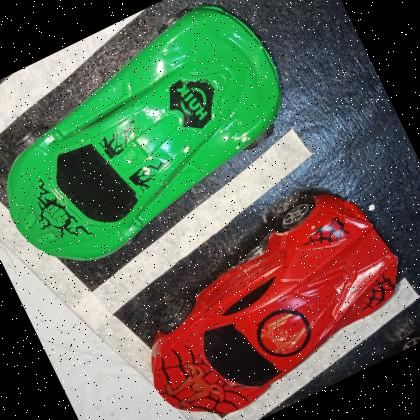Car: (5, 3, 281, 260), (149, 190, 399, 416)
